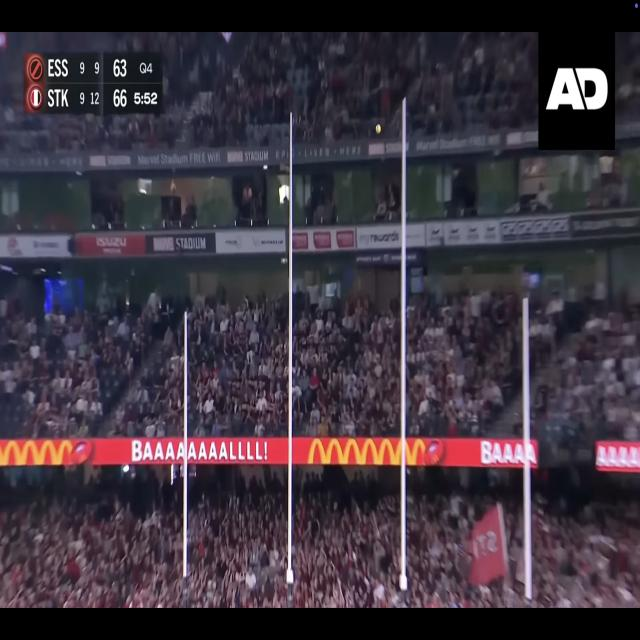crowd: (3, 22, 539, 151), (1, 290, 287, 438), (2, 464, 186, 608), (405, 465, 527, 607), (292, 285, 401, 443), (406, 292, 524, 437), (290, 467, 402, 609), (532, 297, 638, 438), (187, 466, 290, 609), (535, 474, 639, 605)
